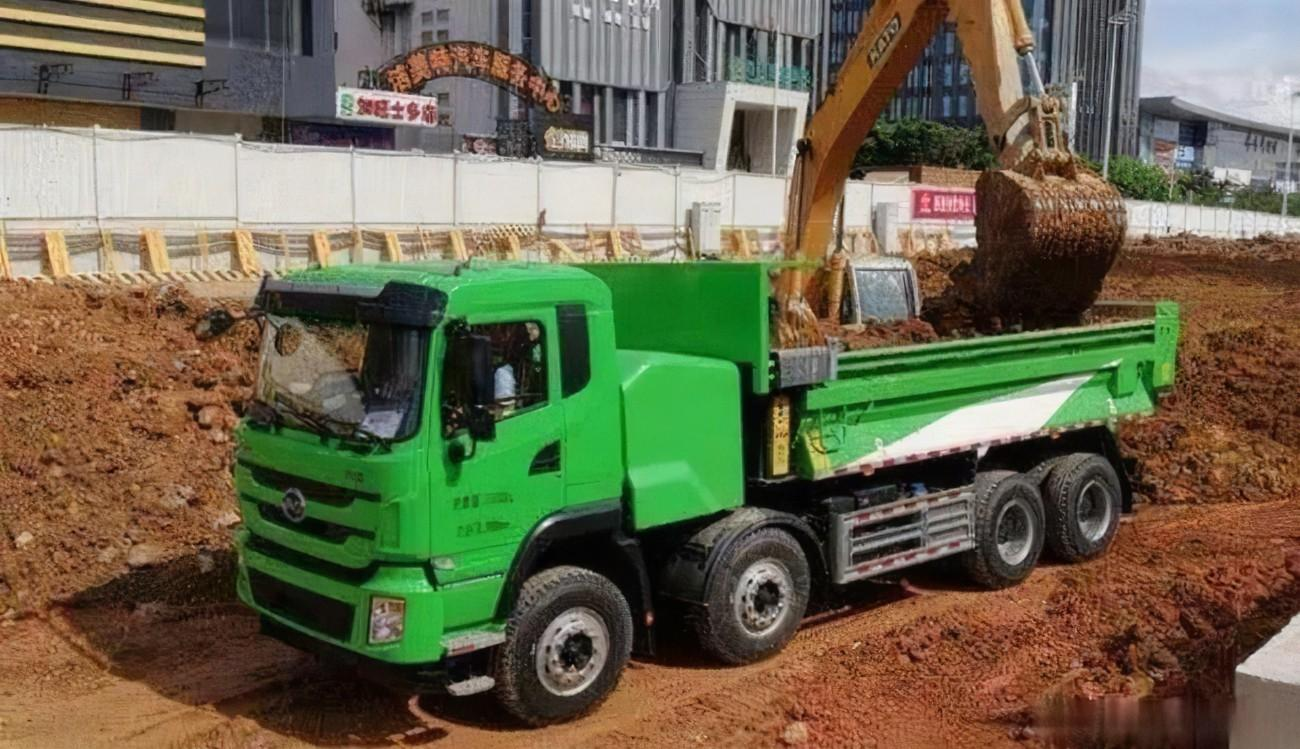truck: (211, 198, 1191, 718)
